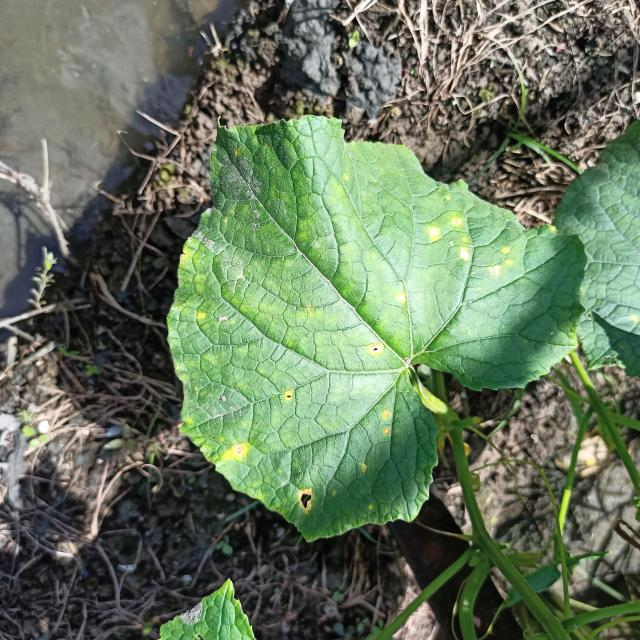disease_cucumber: (425, 212, 515, 280), (294, 482, 318, 515), (220, 439, 250, 463), (381, 405, 392, 436), (366, 339, 384, 356), (394, 290, 408, 304), (284, 389, 297, 400)
